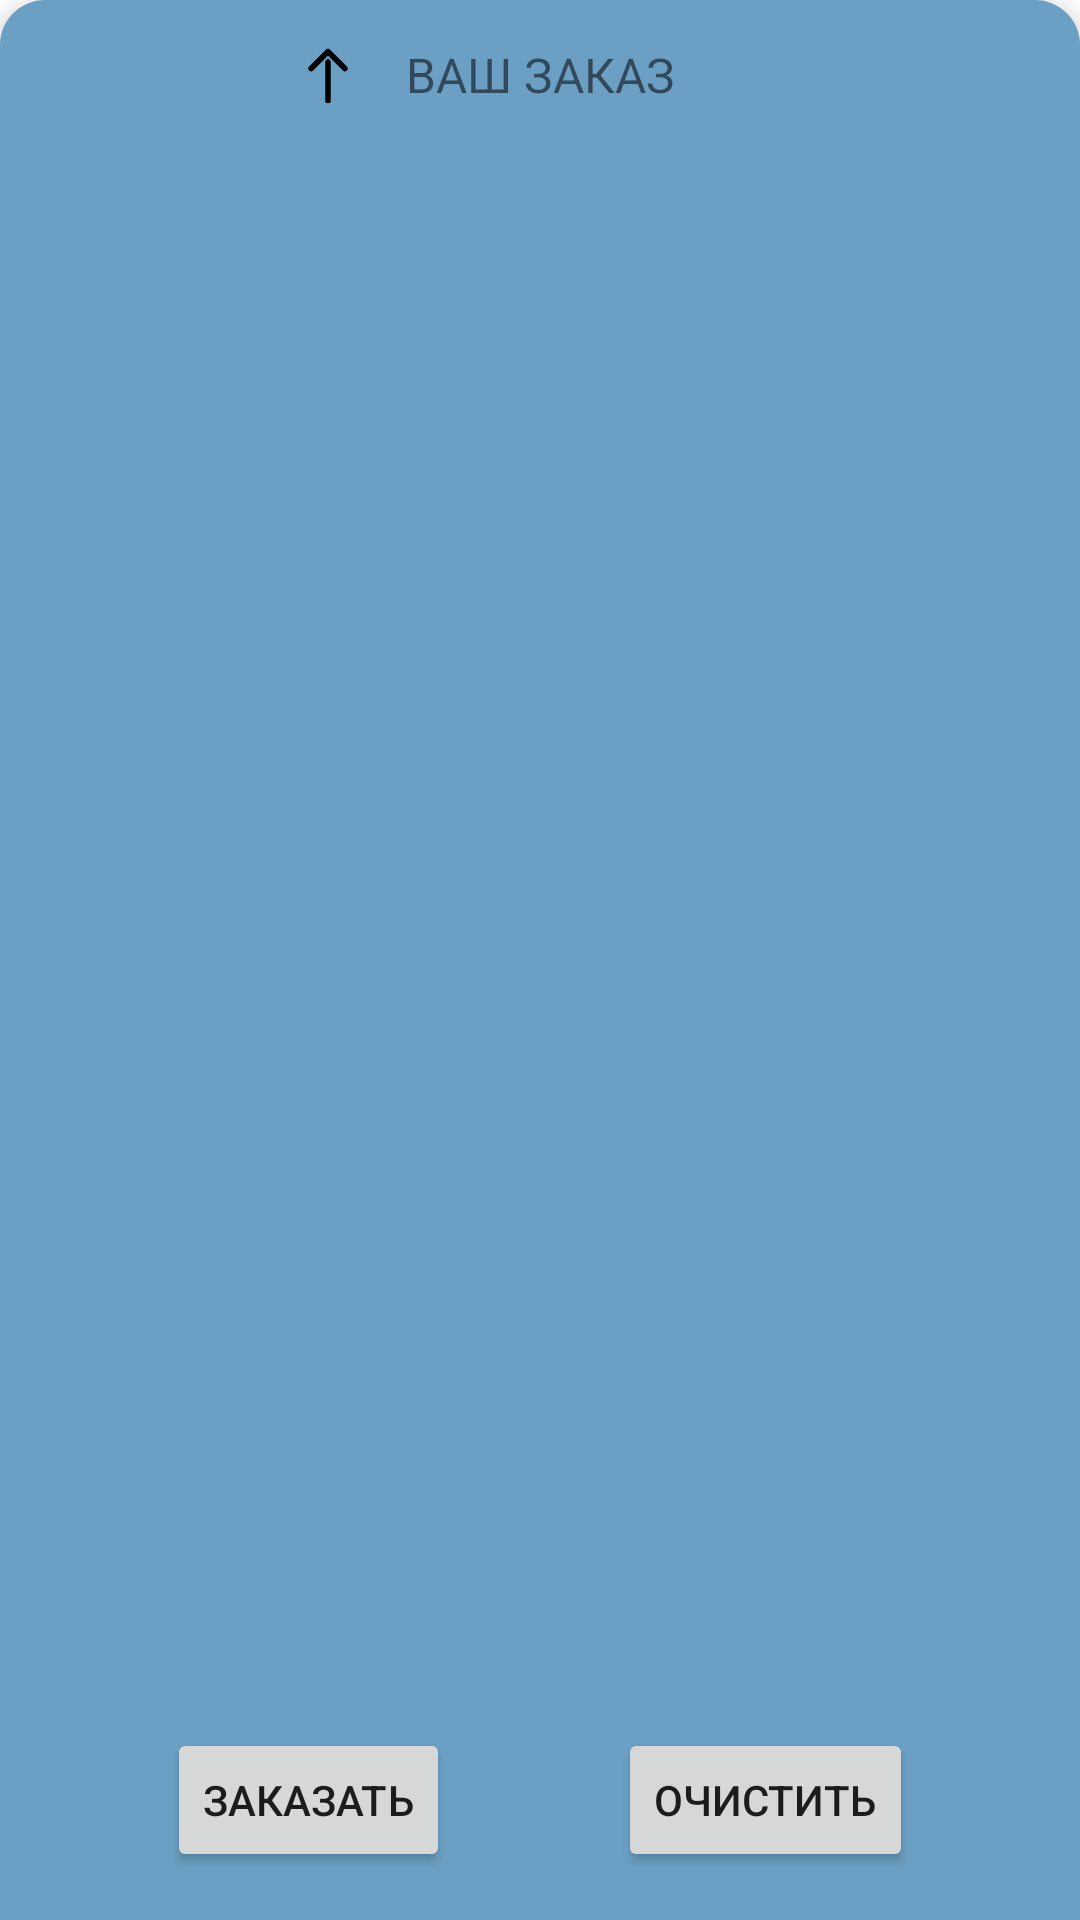

Icon click points for this 1080px x 1920px phone screenshot, format (x,y):
arrows: (328,76)
